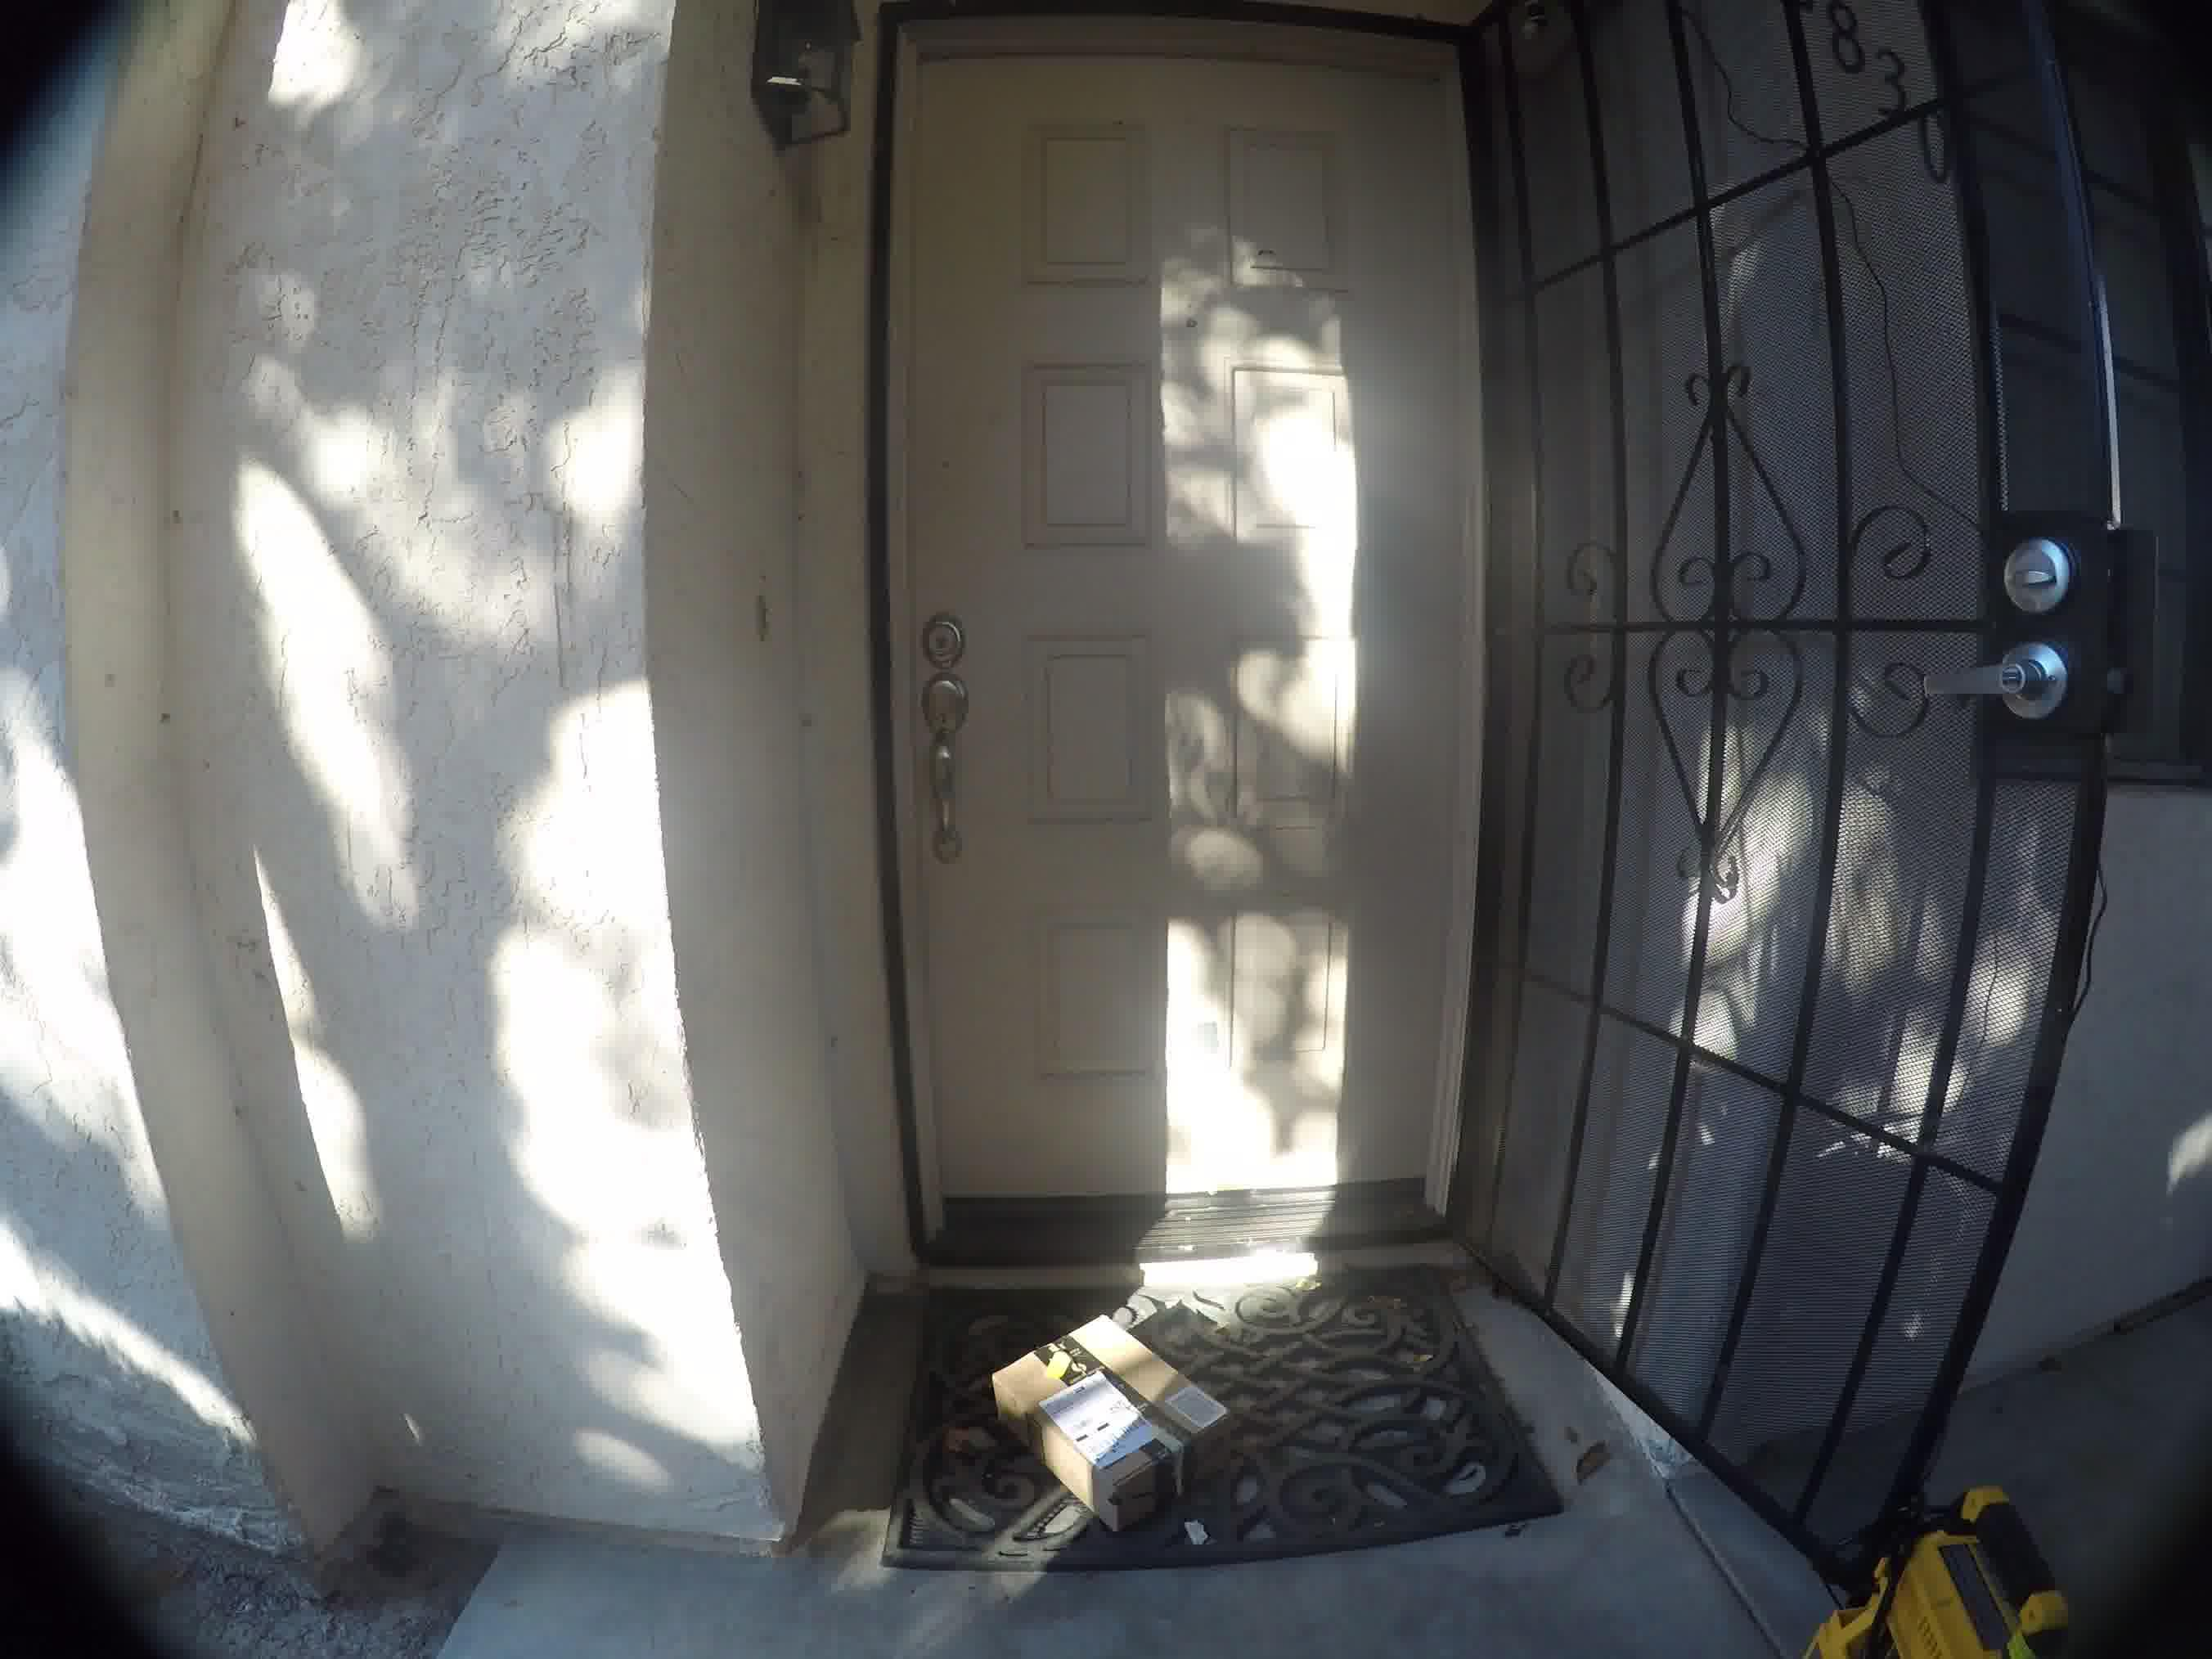box: (960, 1293, 1245, 1525)
